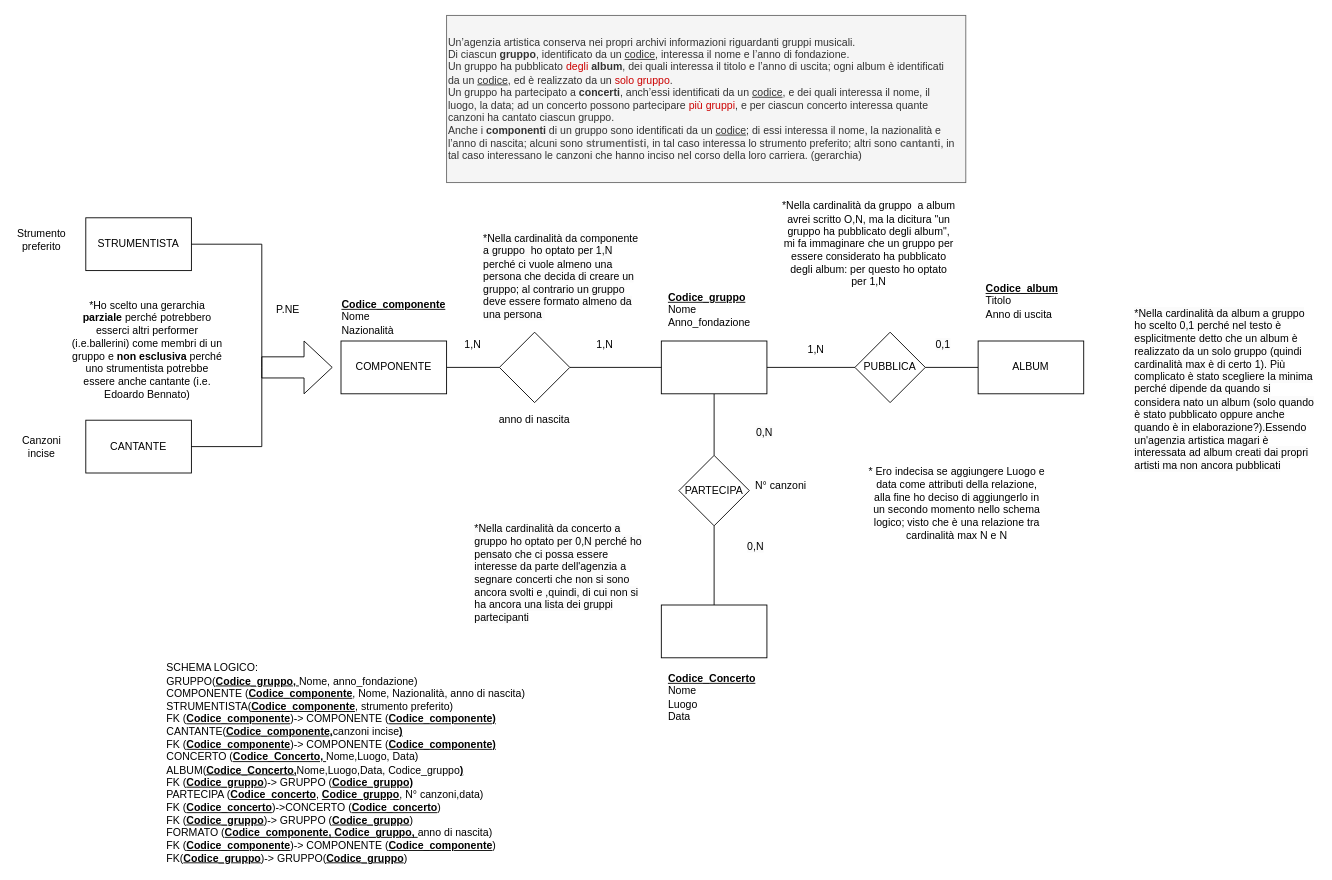
The diagram is 1332 pixels wide and 880 high, and some of its shapes have lost their labels. Here are the shapes that lost their labels. From the top down, the box of each, then its label:
(499, 331, 570, 403): FORMATO
(660, 340, 767, 394): GRUPPO
(660, 604, 767, 658): CONCERTO
